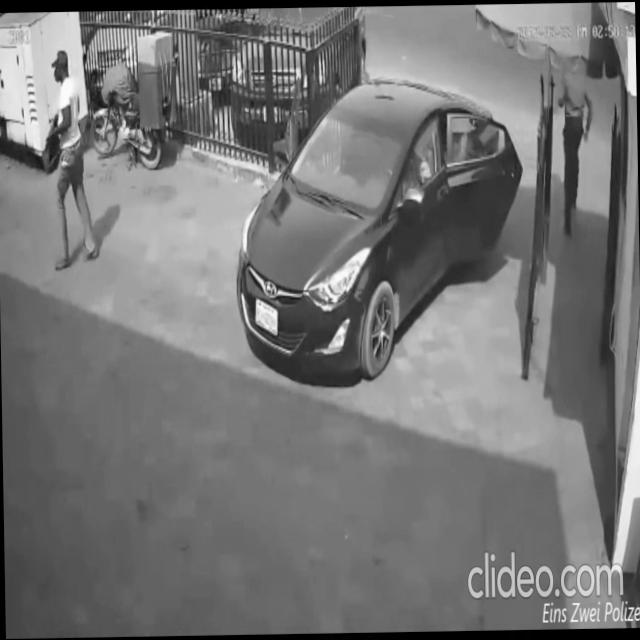gun: (43, 110, 60, 151)
person: (554, 58, 597, 244)
person with a gun: (40, 45, 100, 272)
